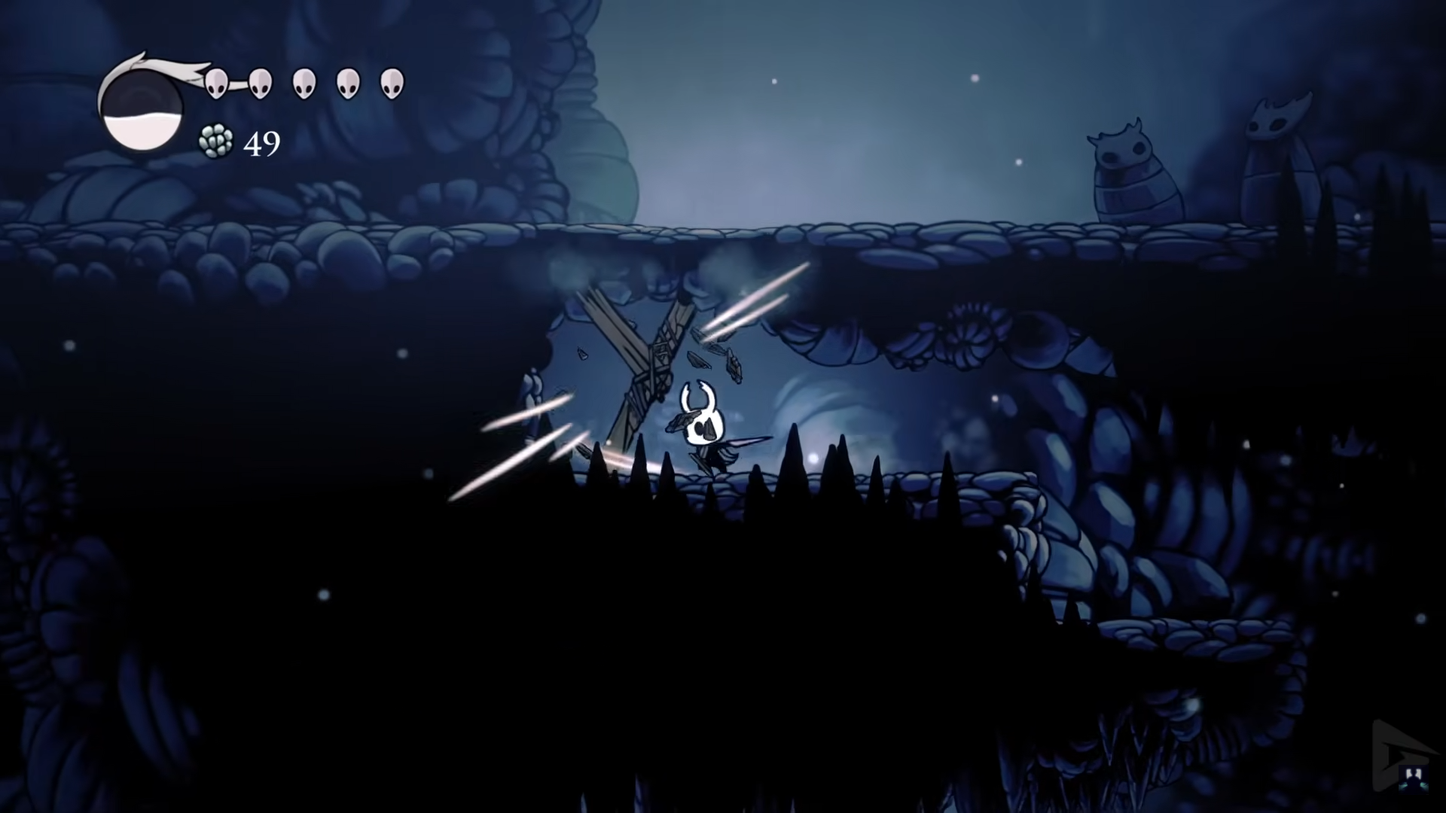HK: (679, 380, 732, 480)
